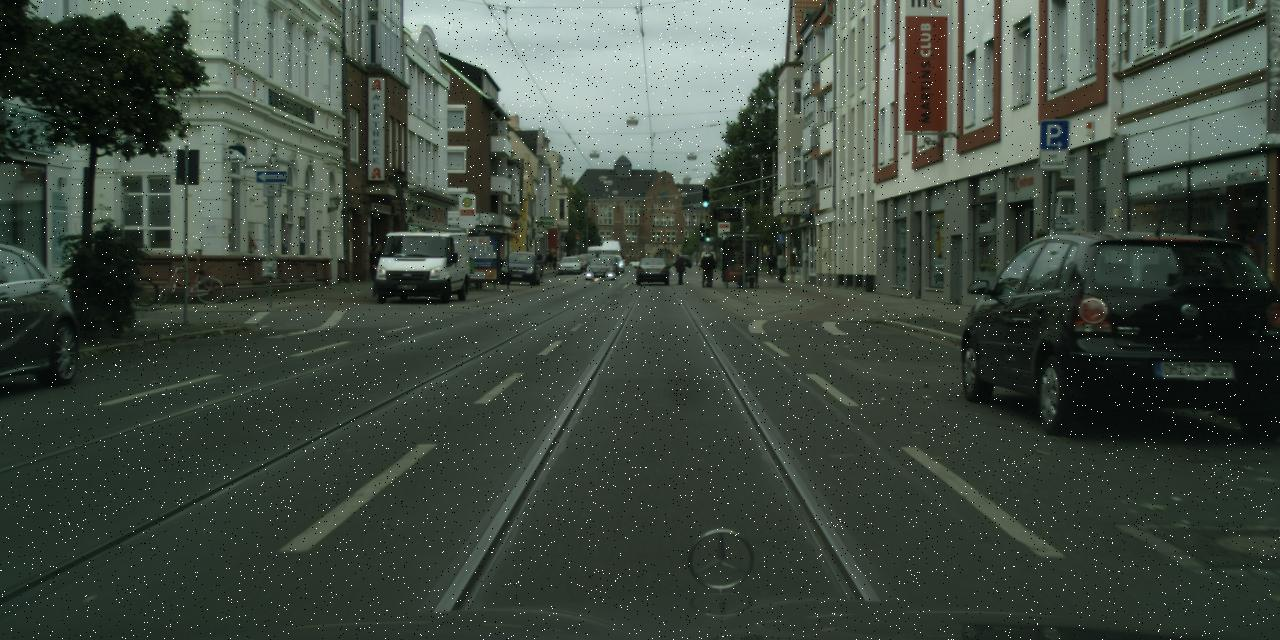ped: (366, 242, 388, 297), (701, 250, 716, 287), (700, 252, 714, 286), (673, 253, 685, 283), (774, 251, 786, 281), (768, 251, 776, 273), (545, 250, 553, 268), (536, 251, 542, 268), (552, 256, 557, 268)
